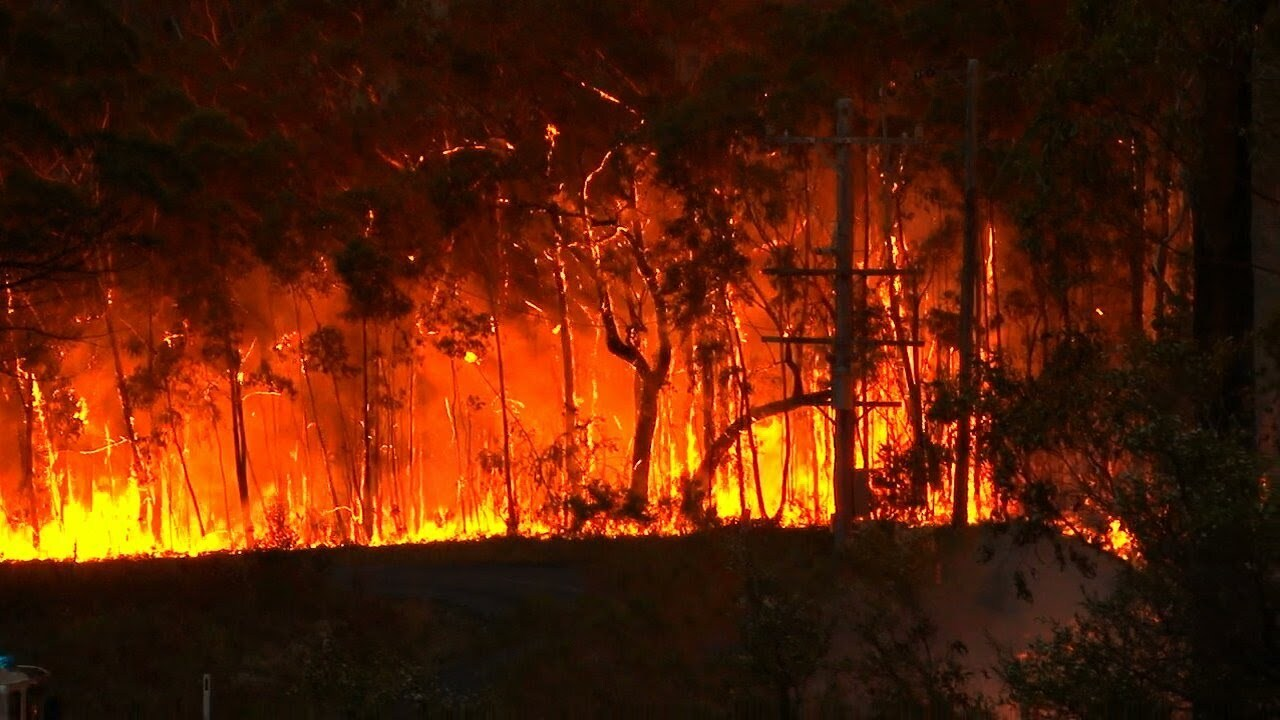fire: (14, 213, 1150, 565)
